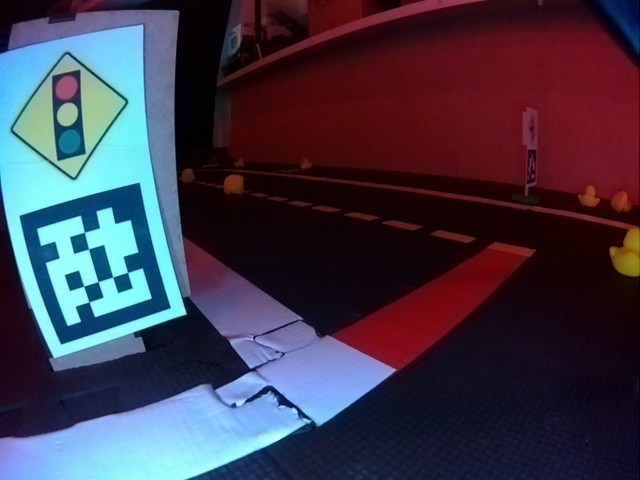Duckie: (610, 231, 638, 272), (225, 175, 245, 194), (579, 187, 599, 206), (614, 191, 630, 212), (182, 172, 194, 183), (237, 159, 244, 167), (304, 159, 310, 168)
Intersection sign: (527, 117, 538, 145)
QR code: (20, 181, 171, 343), (526, 149, 536, 183)
Signal sign: (4, 32, 145, 182)
